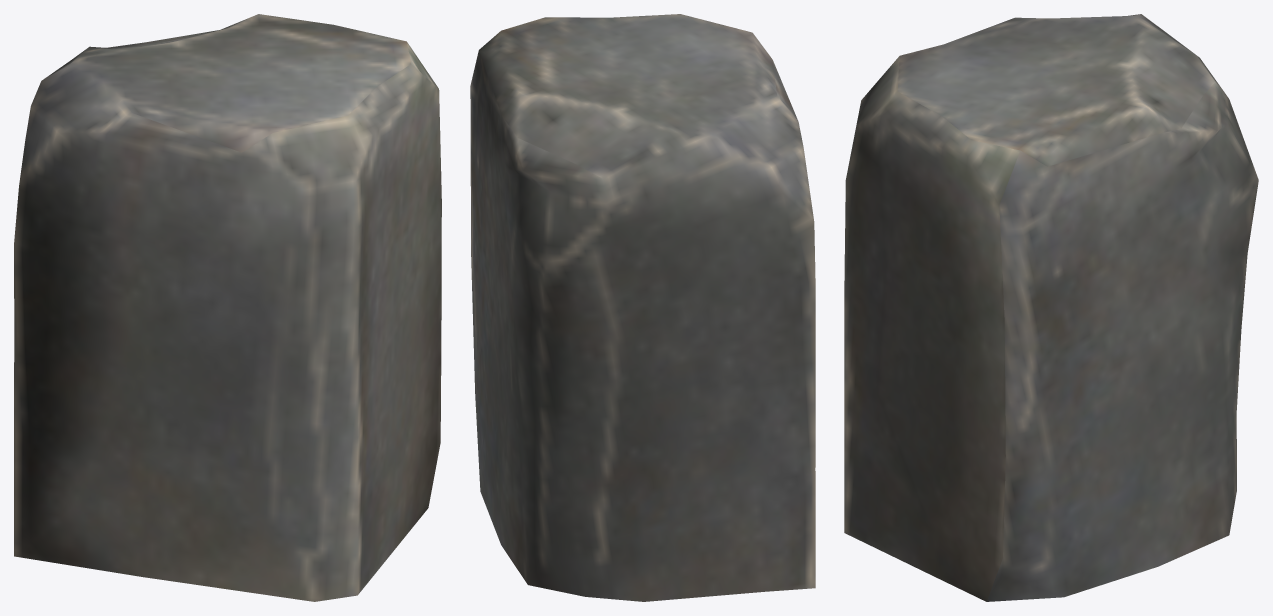
File: Rock_A15.fbx
3 renders of one model, left to right at view 1: azimuth 30°, elevation 25°; view 2: azimuth 150°, elevation 25°; view 3: azimuth 270°, elevation 25°, orthographic.
Visible parts, largest first — view 1: Rock_A15__4_; view 2: Rock_A15__4_; view 3: Rock_A15__4_.
Part boxes in pixels (bbox=[...]): Rock_A15__4_: bbox=[14, 14, 441, 601]; Rock_A15__4_: bbox=[470, 14, 815, 601]; Rock_A15__4_: bbox=[844, 14, 1258, 601].
Size of the model in its own units: 0.2406 by 0.2719 by 0.2265.
